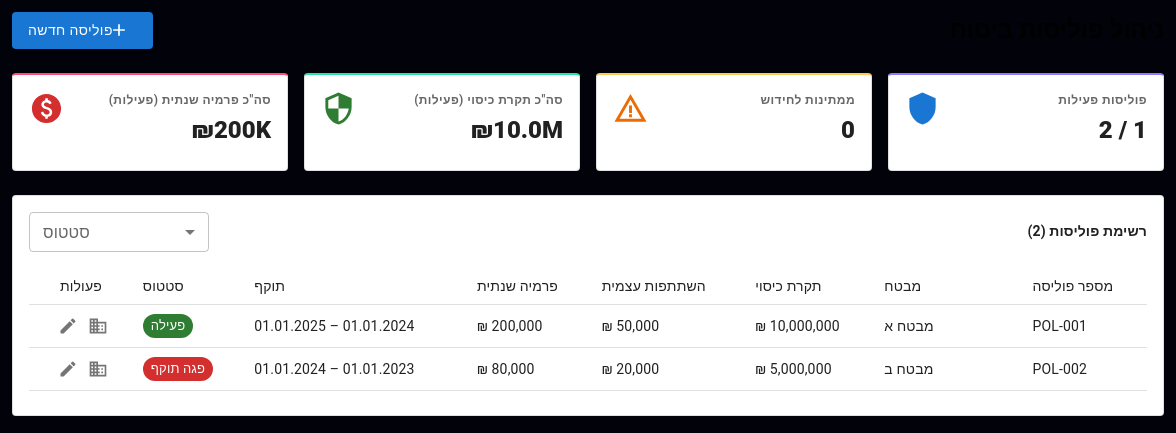
Test: Policies › filtering by status narrows the visible rows and the count in the header
This screenshot has width=1176, height=433.
Check: the text "POL-001" is shown, box [1023,305,1147,348]
Check: the heading "רשימת פוליסות (2)" is shown, box [1028,221,1147,243]
Click the dropdown named "סטטוס". click: [119, 232]
box: [29,212,209,252]
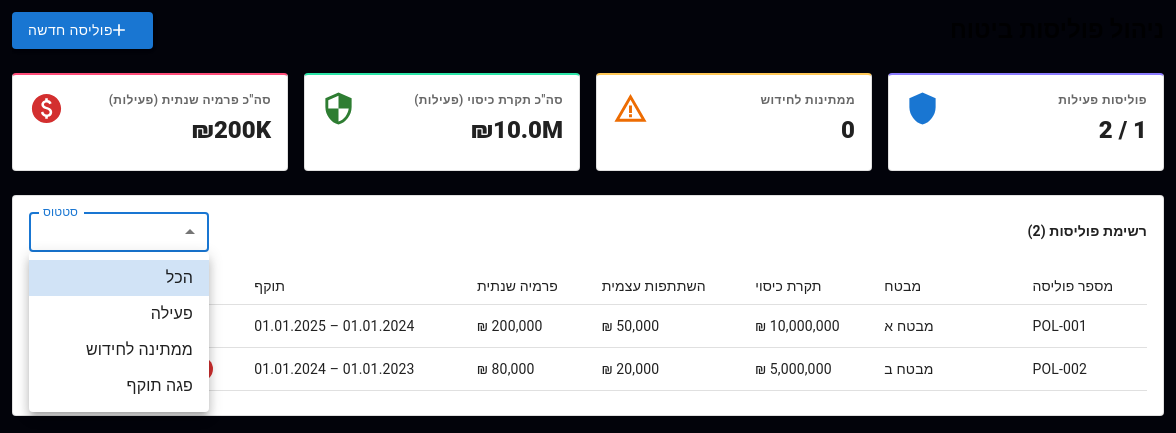
Click the option "פעילה". click: [172, 314]
box: [151,304,193,323]
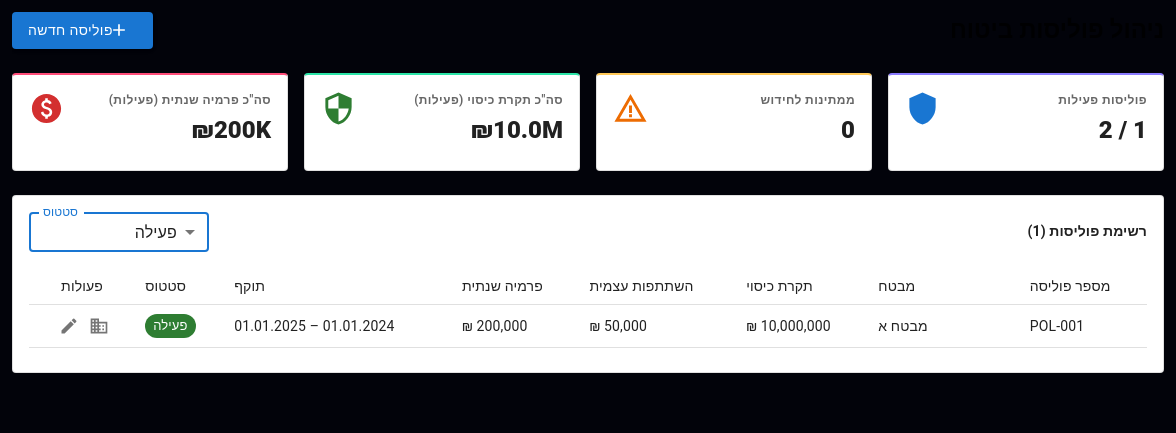
Check: the heading "רשימת פוליסות (1)" is shown, box [1028,221,1147,243]
Check: the text "POL-002" is gone
